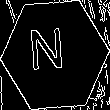N_S: (35, 28, 75, 82)
